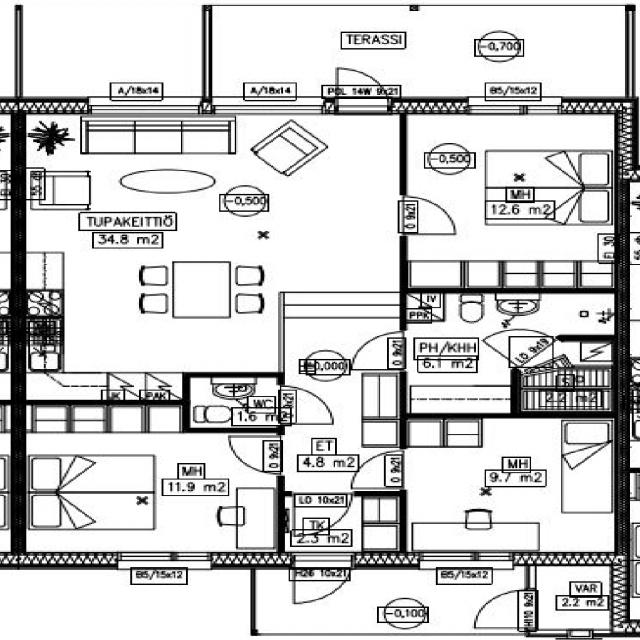door: (480, 311, 559, 369), (295, 552, 352, 610), (294, 491, 352, 538), (338, 60, 388, 114), (224, 436, 284, 474), (276, 386, 336, 424), (475, 591, 535, 628), (348, 332, 407, 369), (399, 197, 458, 234), (348, 451, 406, 488)
